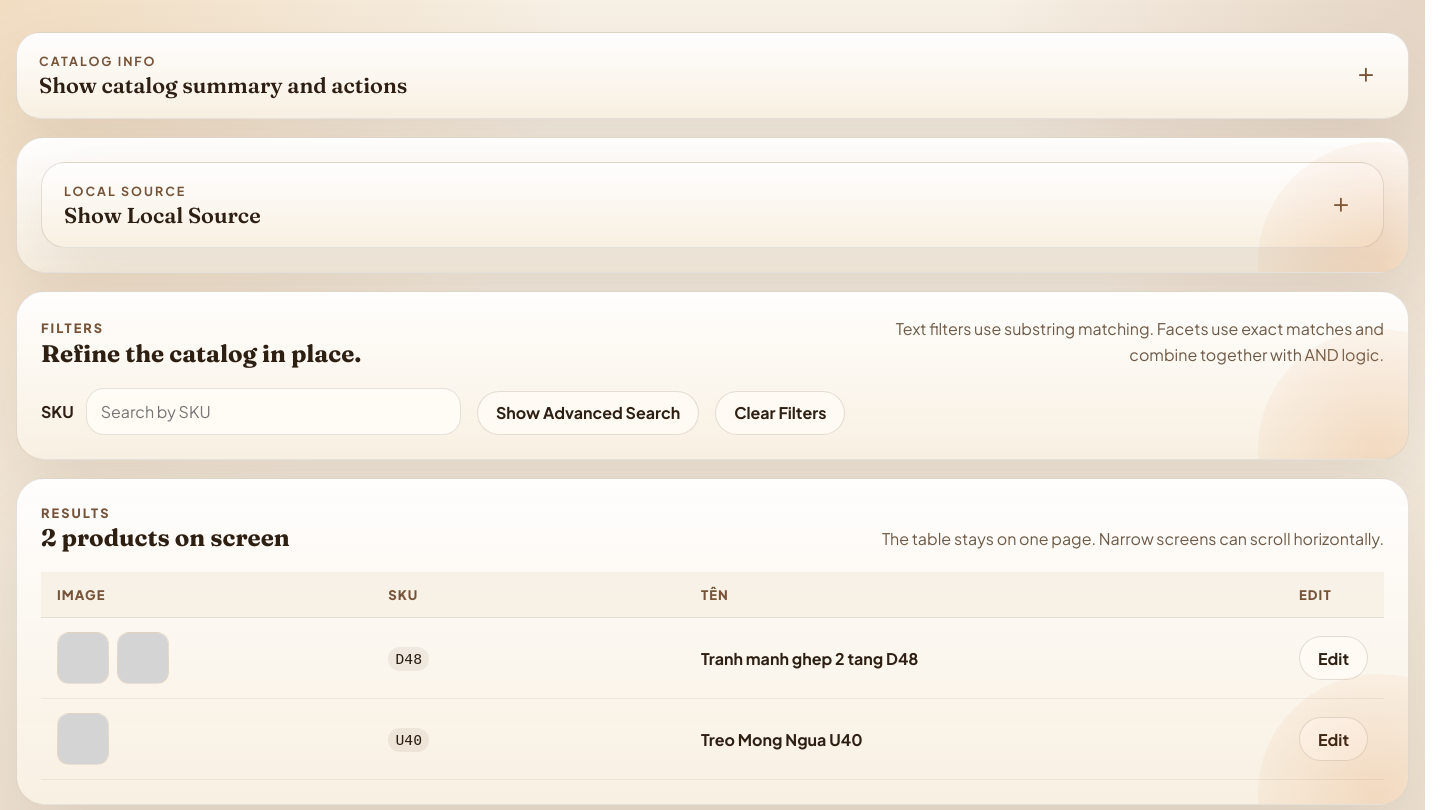
Test: App › keeps the catalog summary collapsed by default and toggles it with one shared control
Expected: the text "Minh & Brothers Product Index" is not shown
Expected: the text "Active catalog" is not shown
Click the button "Catalog Info Show catalog summary and actions +". click: (98, 61)
box: [16,32,1409,119]
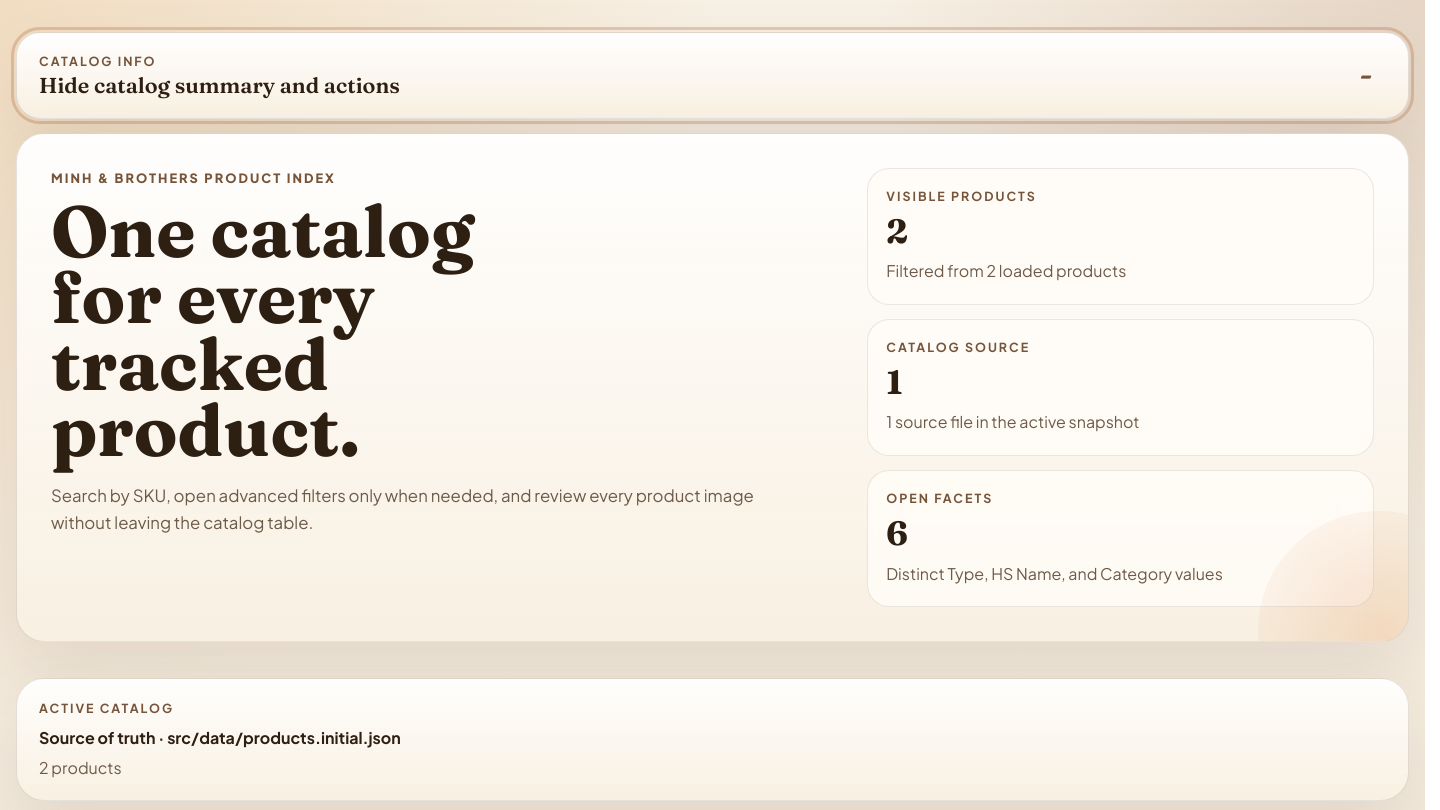
Now the button "Catalog Info Hide catalog summary and actions -" is expanded, box [16,32,1409,119]
Now the text "Minh & Brothers Product Index" is shown, box [51,170,336,186]
Now the text "Active catalog" is shown, box [39,700,174,716]
